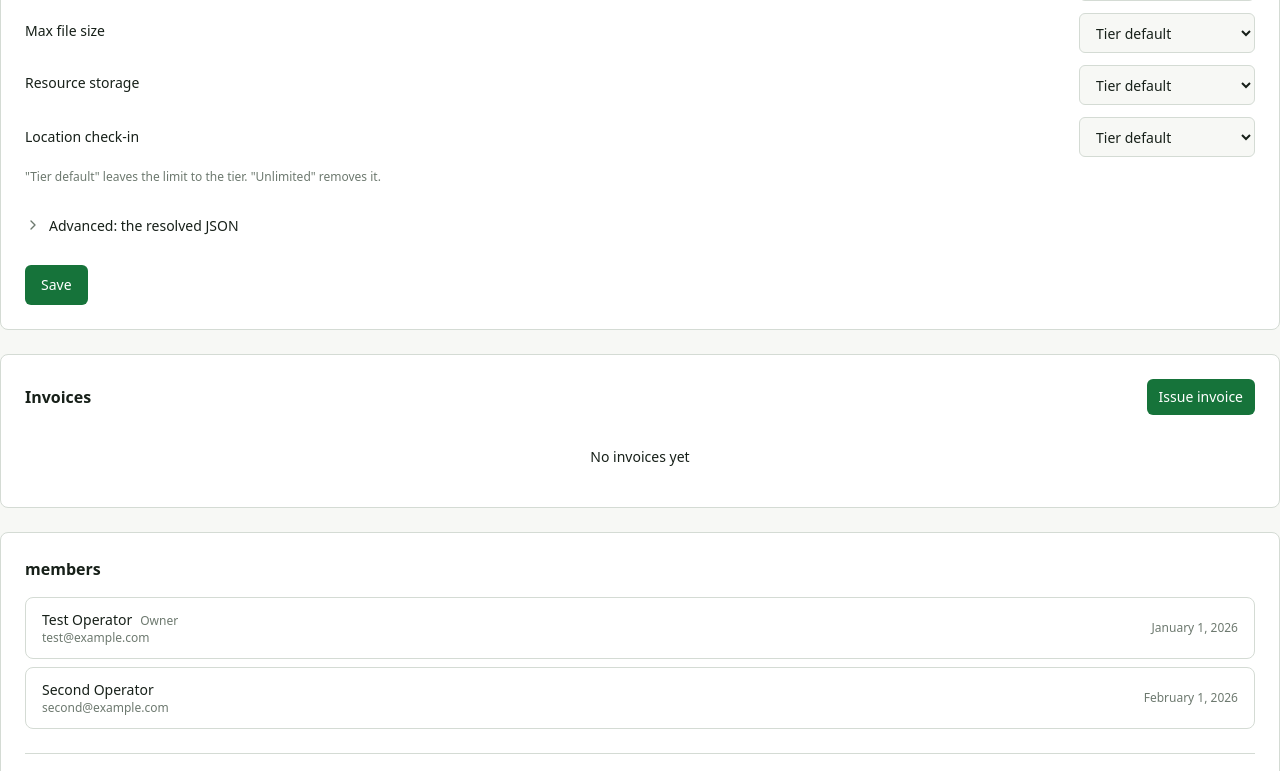
Scenario: Admin club invoicing › issues an invoice in cents and shows the new row
(page scrolled)
Click the button with test id "admin-org-issue-invoice": (1201, 397) x1=1147 y1=379 x2=1255 y2=415
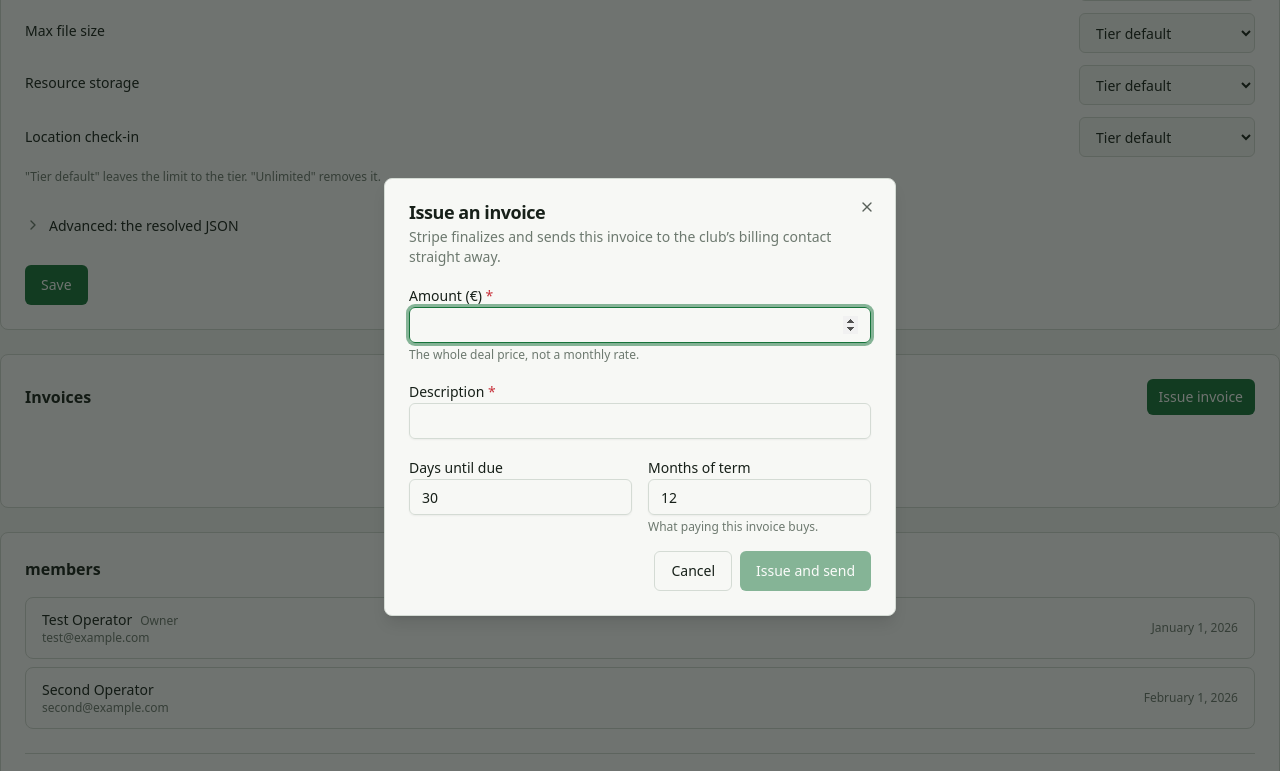
In the number field with test id "issue-invoice-amount": (640, 325) x1=409 y1=307 x2=871 y2=343, type "499"
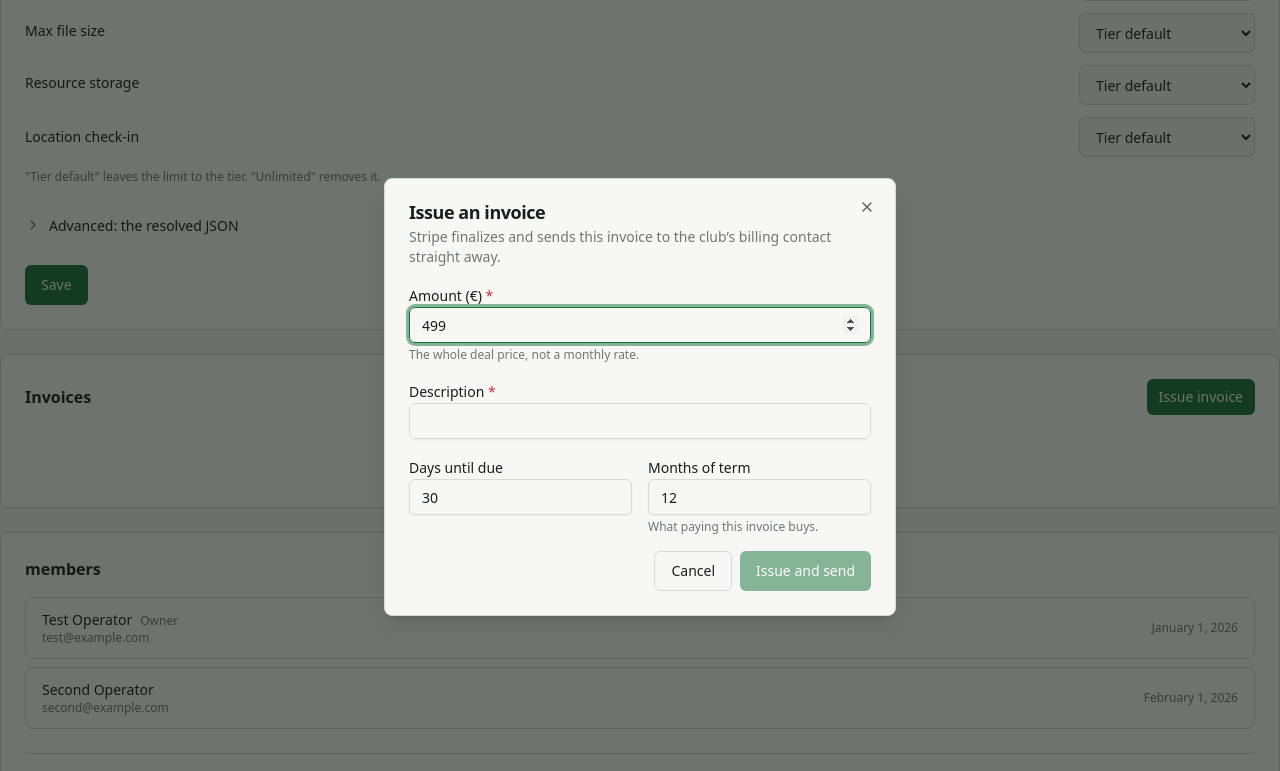
In the field with test id "issue-invoice-description": (640, 421) x1=409 y1=403 x2=871 y2=439, type "2026/27 season"
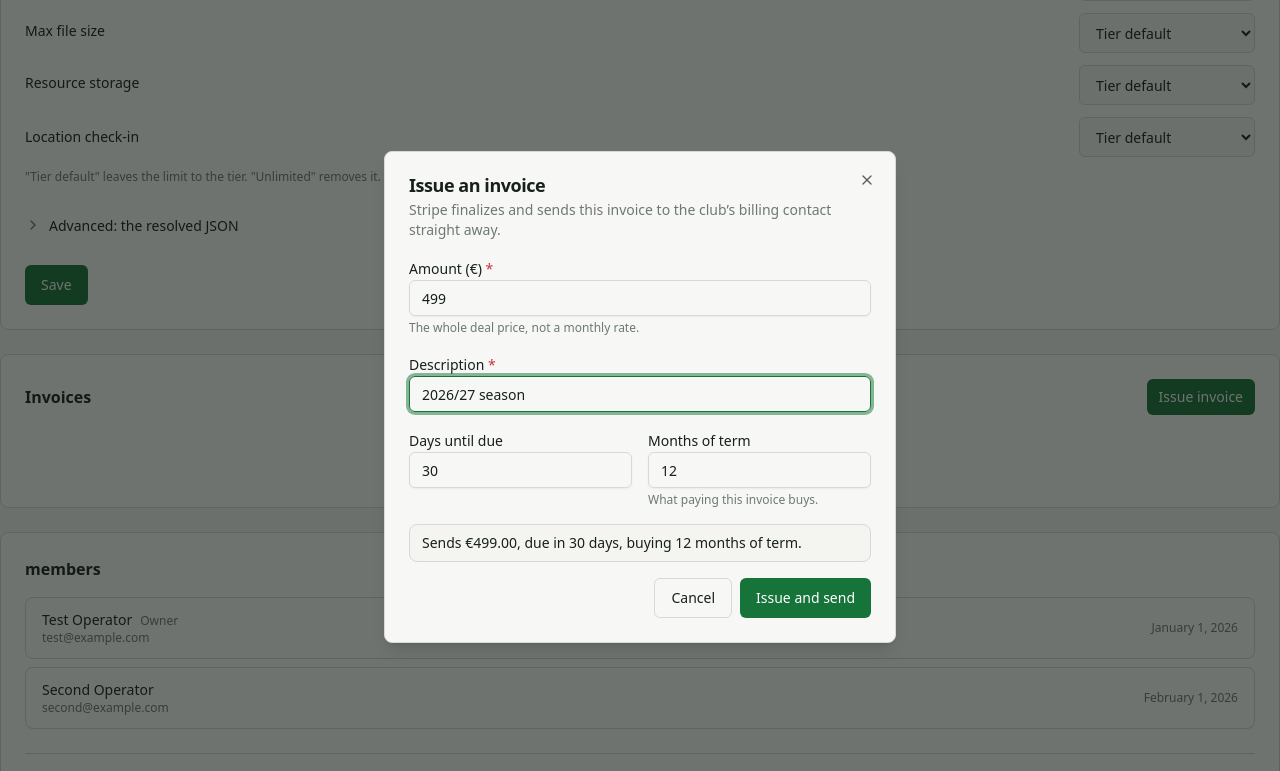
Clear the number field with test id "issue-invoice-term-months": (760, 470) x1=648 y1=452 x2=871 y2=488
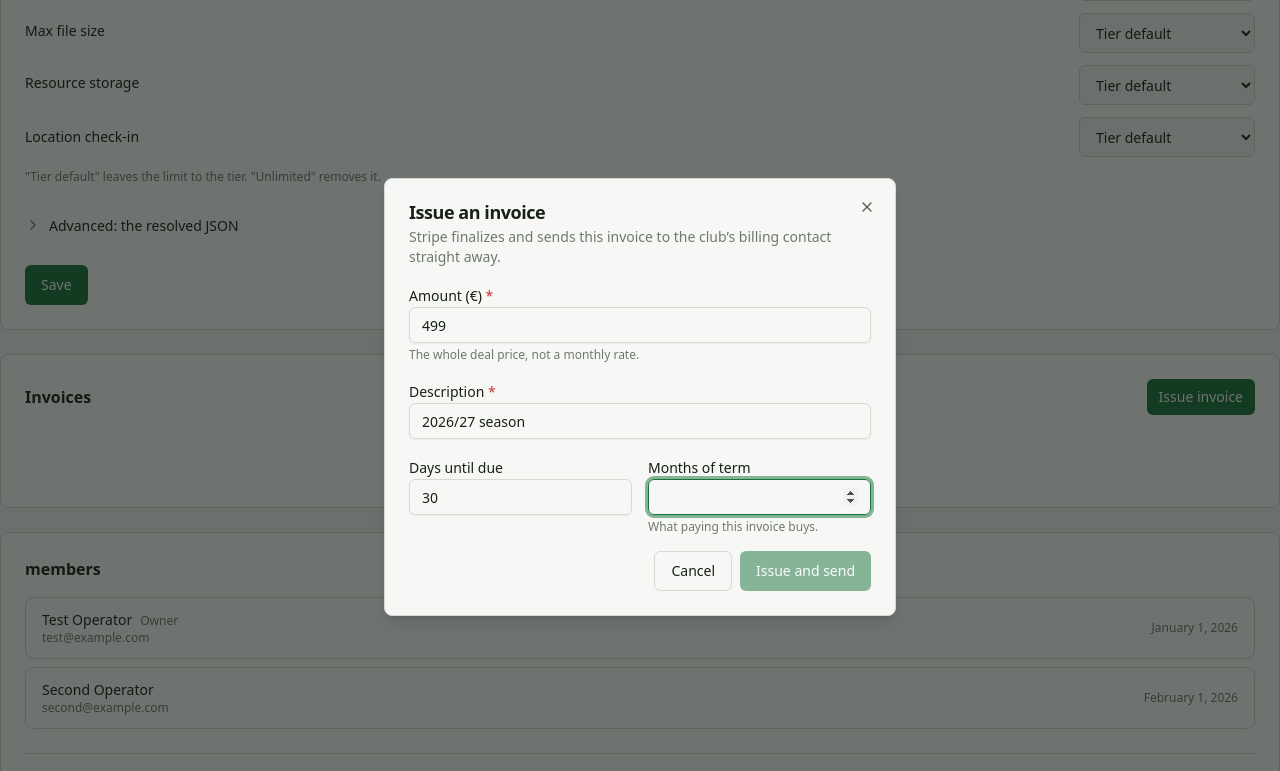
In the number field with test id "issue-invoice-term-months": (760, 497) x1=648 y1=479 x2=871 y2=515, type "24"
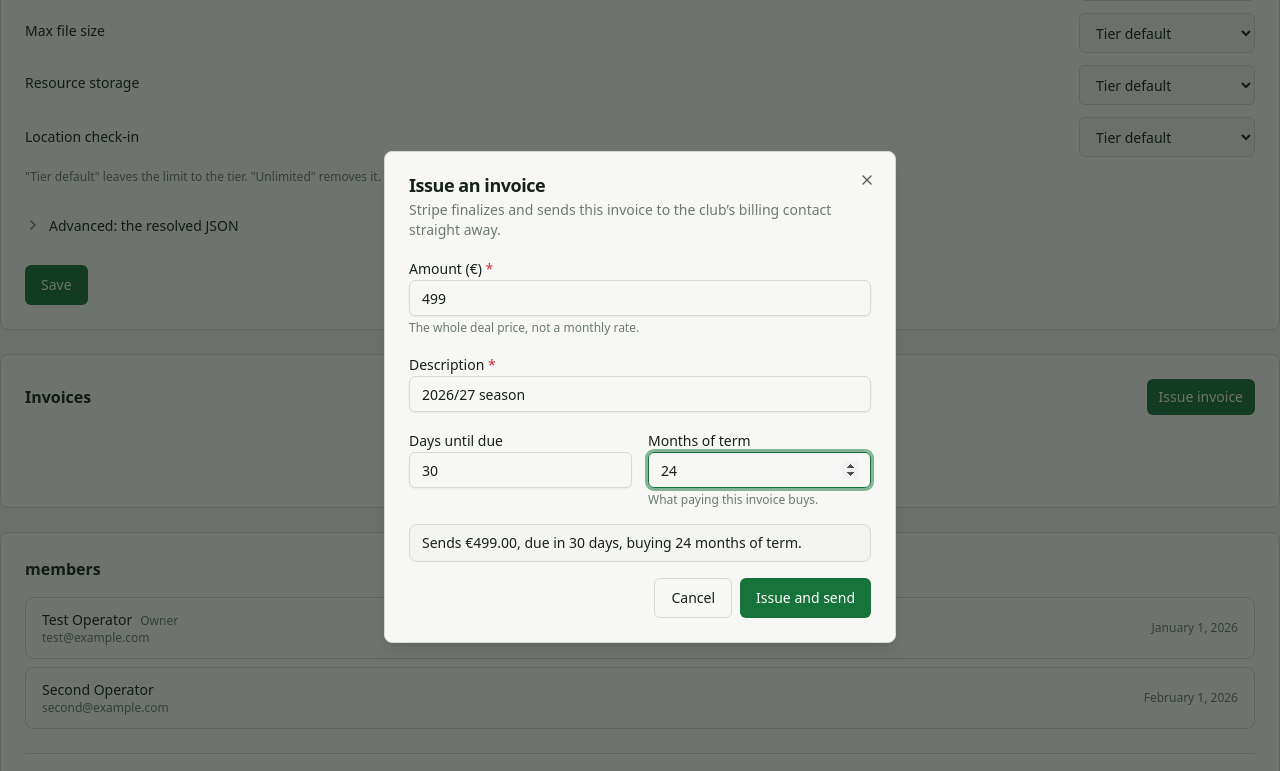
expect the text with test id "issue-invoice-confirm" reads "Sends €499.00, due in 30 days, buying 24 months of term.": met, box x1=422 y1=533 x2=802 y2=552
Click the button with test id "issue-invoice-submit": (806, 598) x1=740 y1=578 x2=871 y2=618
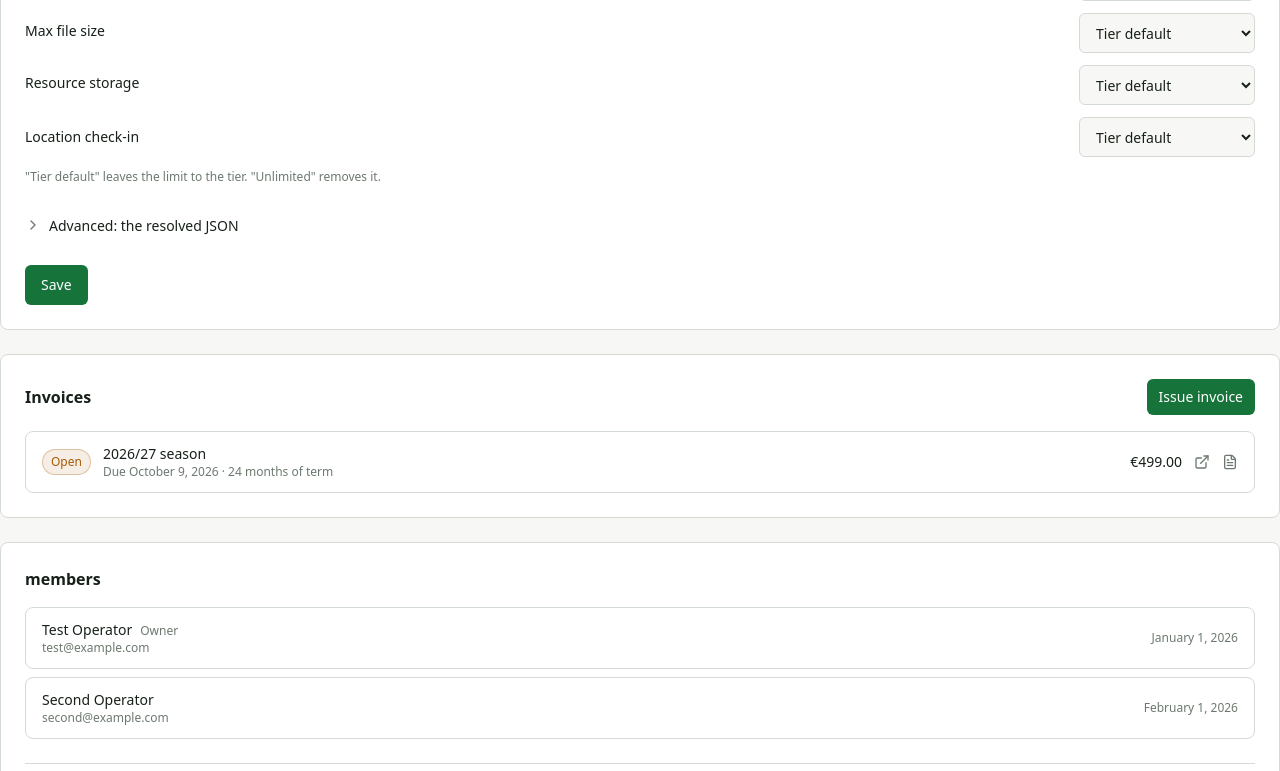
expect the list item with test id "admin-org-invoices-row" shows "2026/27 season": met, box x1=103 y1=444 x2=206 y2=463
